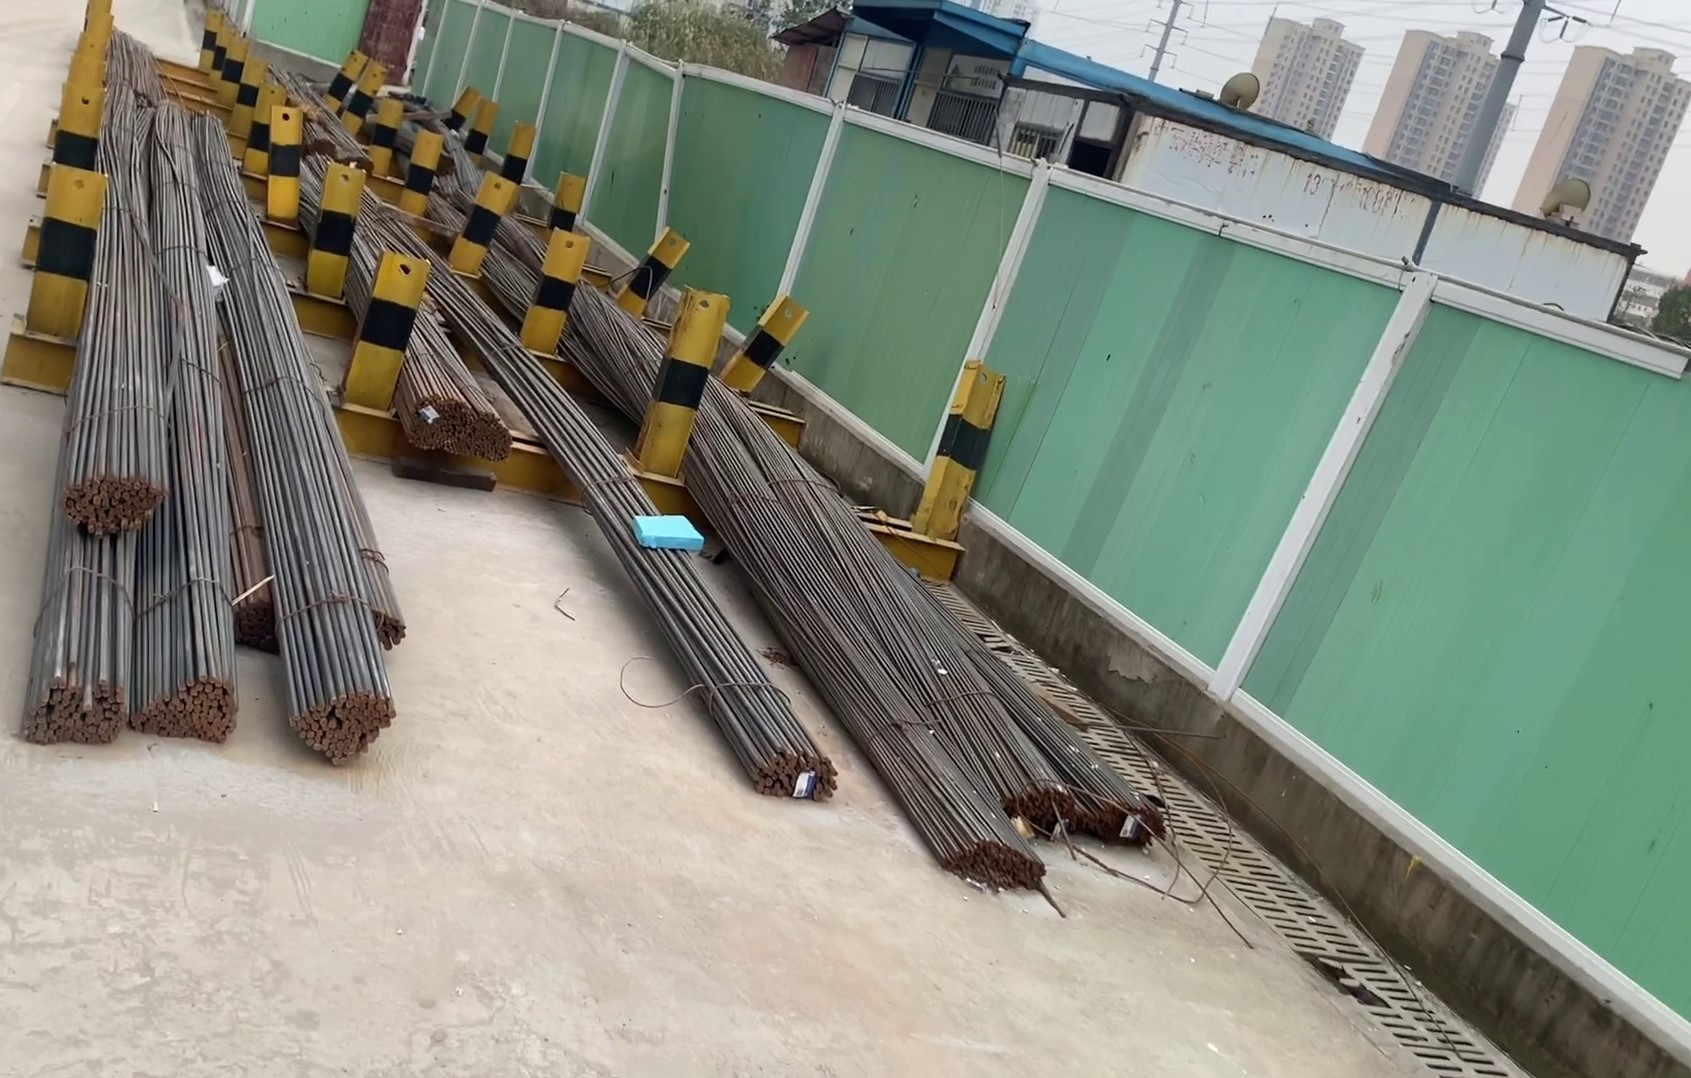rebar: (1013, 775, 1166, 848), (286, 687, 398, 760), (133, 673, 242, 743), (18, 671, 126, 740), (935, 827, 1050, 888), (414, 394, 515, 462), (753, 737, 841, 806), (67, 474, 164, 533), (230, 588, 283, 647), (364, 602, 410, 649)
